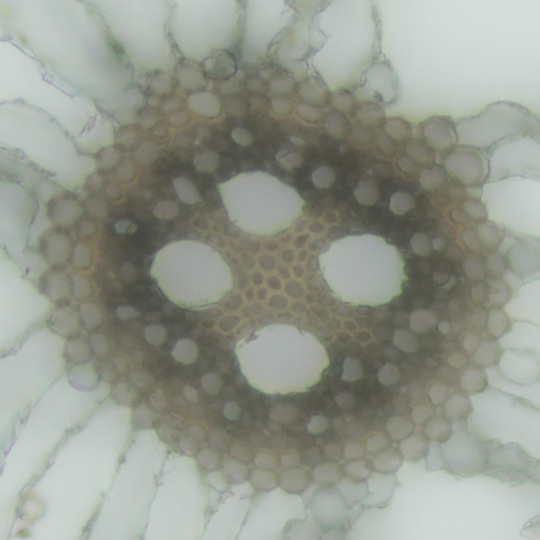lm: (233, 323, 331, 396), (318, 233, 410, 306), (150, 240, 234, 311), (218, 170, 306, 236)
